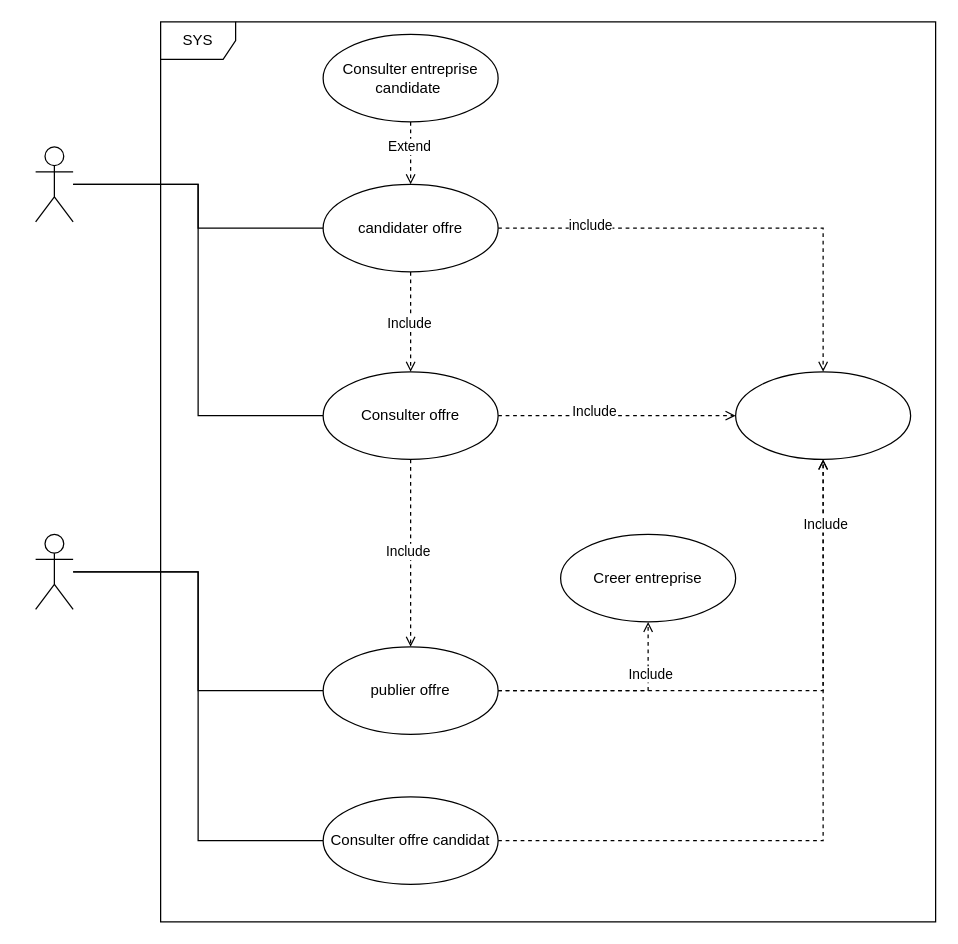
The diagram is 958 pixels wide and 944 high, and some of its shapes have lost their labels. The shapes that lost their labels are listed below. From the top down, each one's centre as x and y in pixels, then its label:
At point 53,184: "candidat".
At point 822,415: "enregistrer site".
At point 53,571: "Recruteur".
